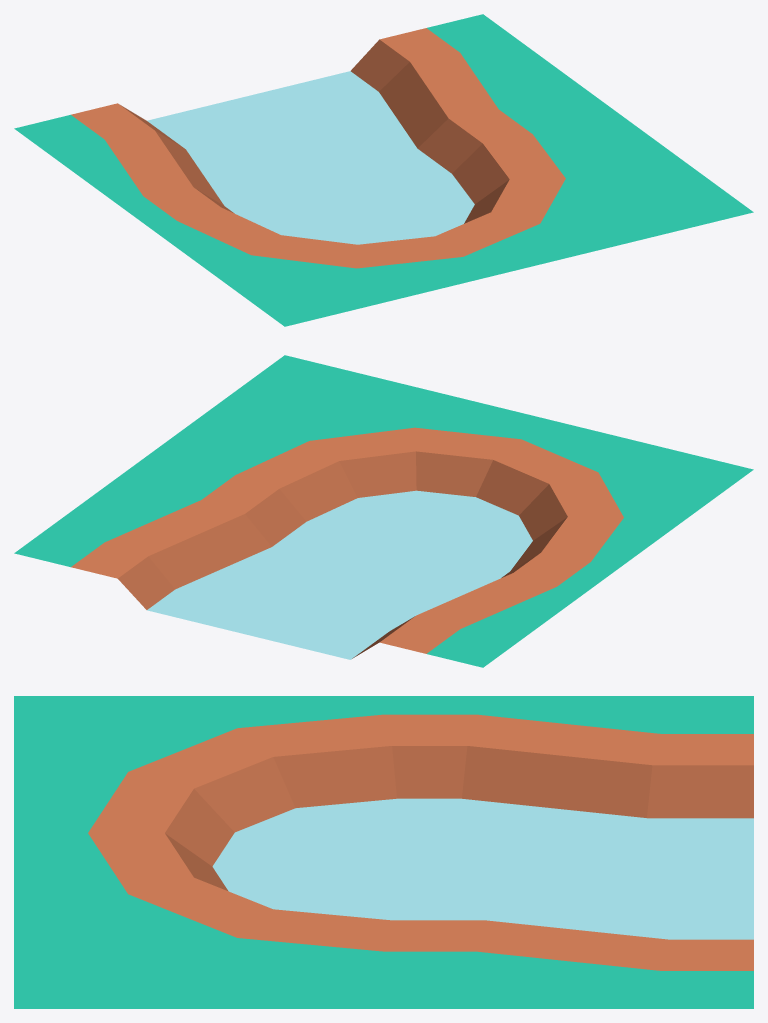
The model's file is ground_riverEndClosed.dae.
The picture shows the model from 3 angles, top to bottom: view 1: azimuth 30°, elevation 25°; view 2: azimuth 150°, elevation 25°; view 3: azimuth 270°, elevation 25°; orthographic projection. The views are drawn at different scales.
Visible parts, largest first — view 1: ground_riverEndClosed; view 2: ground_riverEndClosed; view 3: ground_riverEndClosed.
Boxes of the visible parts, x1,y1,x2,y2 form: ground_riverEndClosed: [14, 14, 753, 326]; ground_riverEndClosed: [14, 355, 753, 667]; ground_riverEndClosed: [14, 696, 753, 1008].
Bounding box in the file's own units: 1 × 0.05 × 1.
